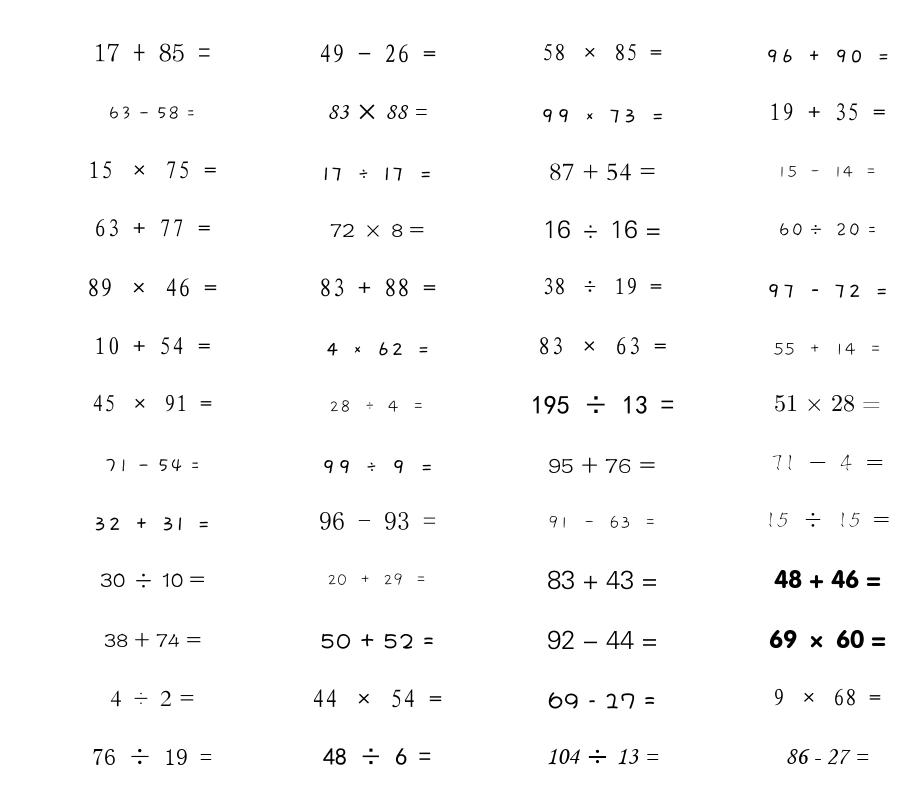MQ: (531, 395, 674, 414), (87, 278, 217, 297), (312, 689, 442, 708), (769, 629, 886, 649), (88, 161, 217, 179), (538, 337, 667, 355), (543, 220, 661, 239), (94, 43, 211, 62), (319, 44, 436, 63), (319, 278, 436, 297), (547, 570, 658, 590), (547, 630, 658, 650), (542, 43, 662, 61), (542, 277, 662, 295), (92, 394, 212, 412), (774, 569, 881, 589), (769, 103, 886, 121), (94, 219, 211, 237), (94, 337, 211, 355), (319, 512, 436, 530), (92, 748, 212, 765), (765, 512, 890, 528), (773, 688, 881, 706), (549, 163, 656, 181), (774, 394, 881, 412), (771, 454, 884, 471), (546, 748, 659, 765), (548, 457, 656, 474), (548, 692, 656, 709), (323, 748, 431, 765), (320, 633, 434, 649), (765, 49, 890, 63), (540, 109, 665, 123), (766, 284, 889, 298), (93, 517, 211, 531), (327, 104, 427, 120), (321, 460, 434, 474), (100, 573, 205, 588), (322, 167, 433, 181), (104, 632, 201, 648), (773, 342, 882, 356), (548, 515, 657, 529), (325, 342, 430, 356), (110, 690, 195, 707), (104, 458, 200, 473), (778, 223, 877, 237), (785, 749, 869, 765), (330, 223, 424, 237), (777, 165, 877, 178), (327, 573, 427, 586), (329, 400, 425, 413), (108, 106, 196, 120)
